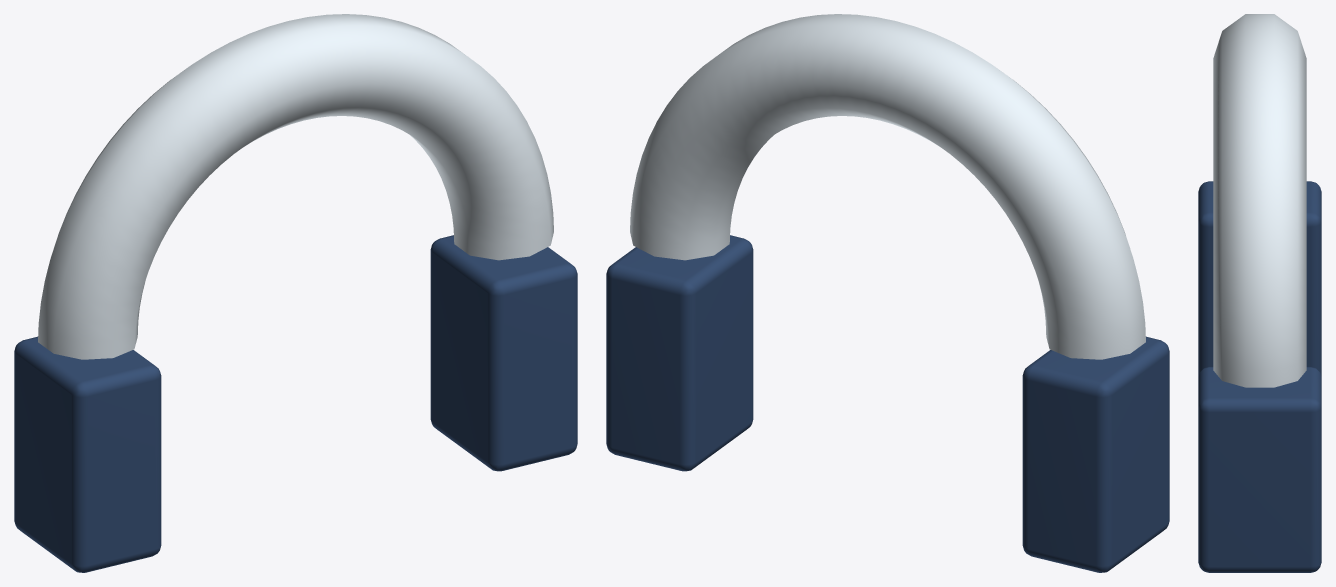
Rendered from stone-arch-quality.glb.
The picture shows the model from 3 angles, left to right: view 1: azimuth 30°, elevation 25°; view 2: azimuth 150°, elevation 25°; view 3: azimuth 270°, elevation 25°; orthographic projection. The views are drawn at different scales.
Parts seen in each view (by area): view 1: Arch; view 2: Arch; view 3: Arch.
Boxes of the visible parts, box(x1,y1,x2,y2) form: Arch: box(14, 14, 577, 572); Arch: box(606, 14, 1169, 572); Arch: box(1198, 14, 1321, 572).
Bounding box in the file's own units: 1.94 × 1.71 × 0.45.
